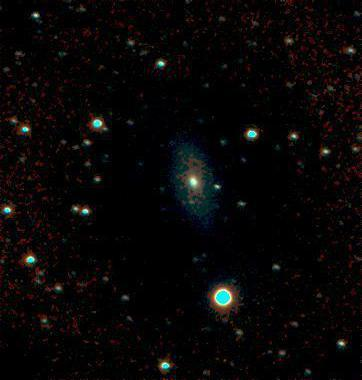star: (171, 185, 201, 215)
